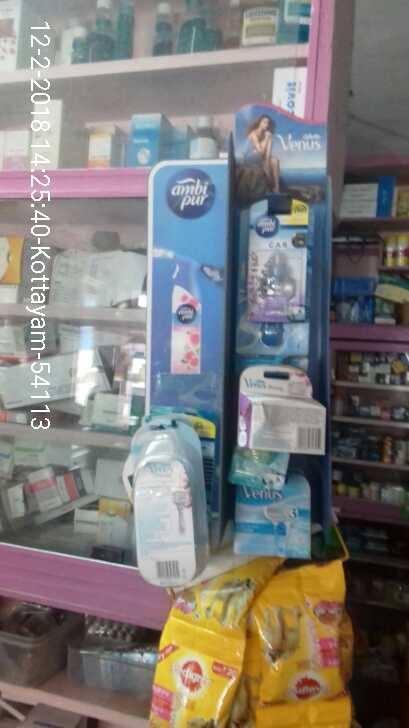beauty: (224, 478, 316, 565)
home: (246, 189, 312, 332)
